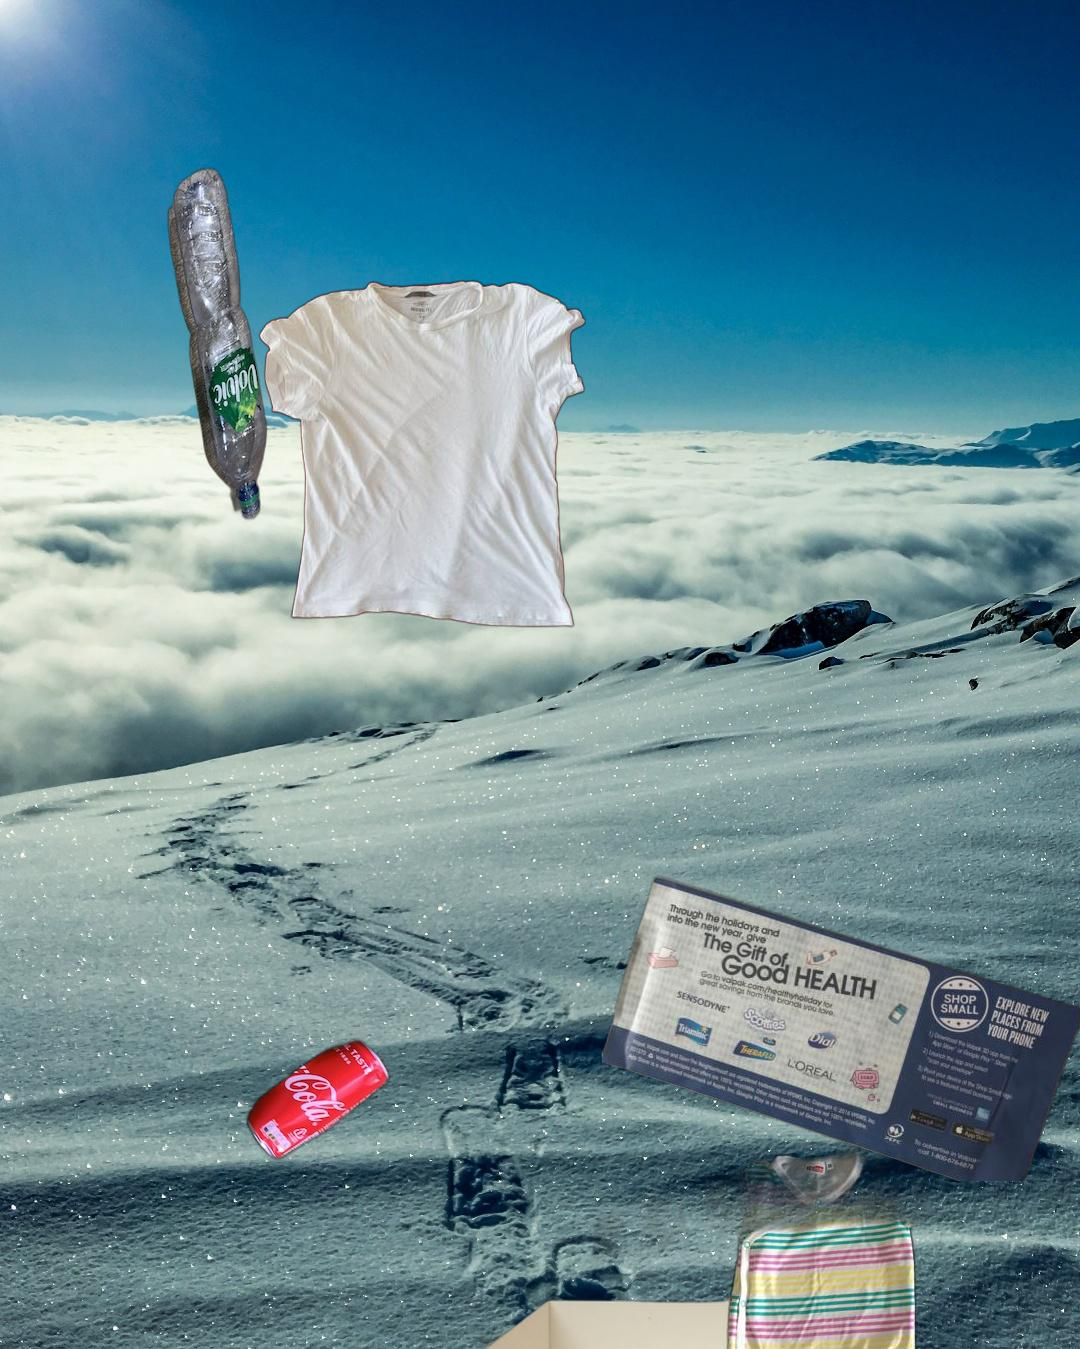clothes: (256, 276, 588, 632), (581, 1145, 1080, 1349)
metal-cans: (242, 1034, 395, 1165)
paper: (602, 875, 1080, 1181)
plastic-bottles: (165, 163, 272, 524)
trashbox-cardboard: (428, 1215, 834, 1349)
